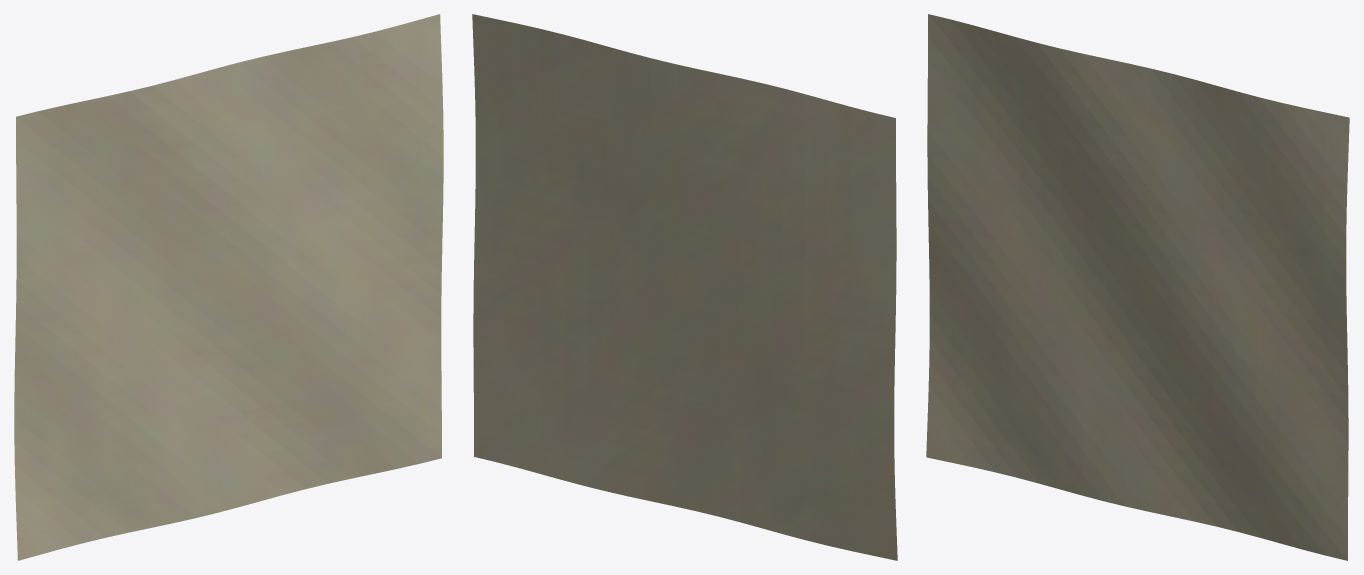
Rendered from sandy_terrain.glb.
3 renders of one model, left to right at view 1: azimuth 30°, elevation 25°; view 2: azimuth 150°, elevation 25°; view 3: azimuth 330°, elevation 25°, orthographic.
Parts seen in each view (by area): view 1: geometry_0; view 2: geometry_0; view 3: geometry_0.
Boxes of the visible parts, x1,y1,x2,y2 form: geometry_0: (14, 14, 443, 560); geometry_0: (472, 14, 897, 560); geometry_0: (926, 14, 1349, 560).
Size of the model in its own units: 10 by 10 by 0.2476.
